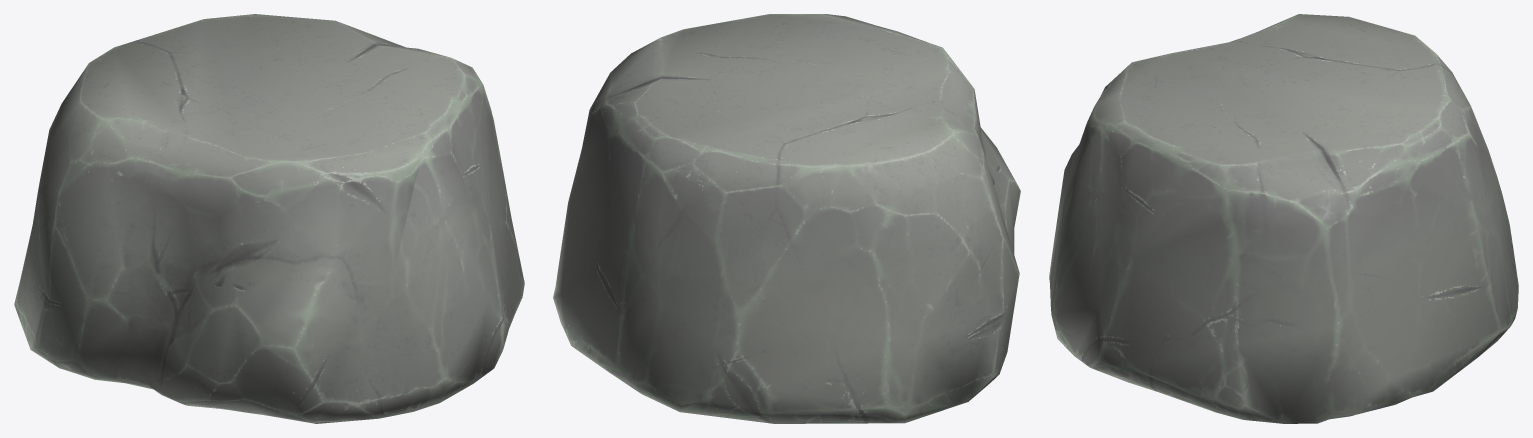
The model's file is Inter_Stonebridge.fbx.
3 views of the same model, side by side, from view 1: azimuth 30°, elevation 25°; view 2: azimuth 150°, elevation 25°; view 3: azimuth 270°, elevation 25° (orthographic). The views are drawn at different scales.
Visible parts, largest first — view 1: low; view 2: low; view 3: low.
Part boxes in pixels (x1,y1,x2,y2): low: [14, 14, 524, 423]; low: [553, 14, 1020, 423]; low: [1049, 14, 1518, 423].
Size of the model in its own units: 135 by 71.53 by 130.
1 material, 1 textured.
